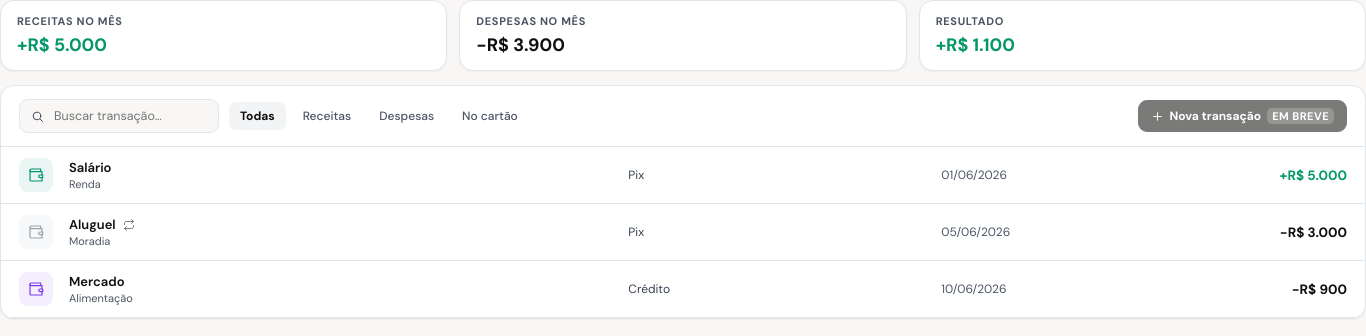
Test: ConsultantClientTransactionsTab › filtra por 'Despesas'
Click the button "Despesas" at [407, 116], box [368,102,445,130]
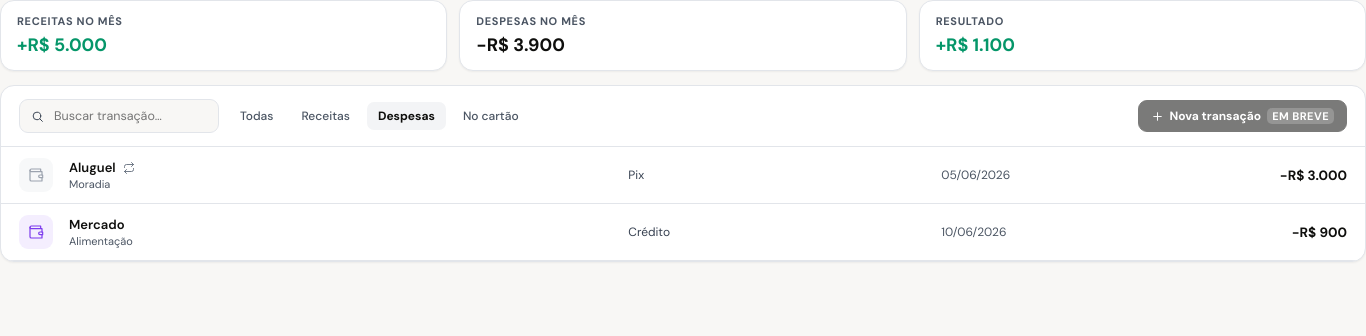
Expected: the text "Aluguel" is shown, [69,159,116,176]
Expected: the text "Salário" is gone
